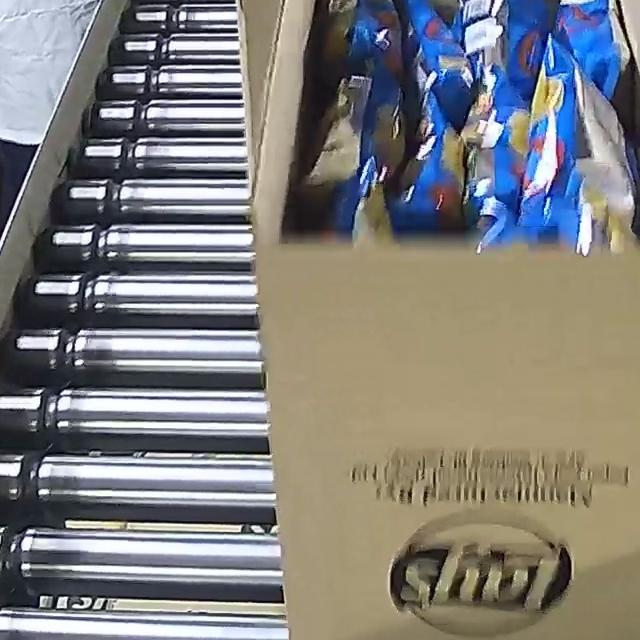paprika: (293, 0, 640, 255)
